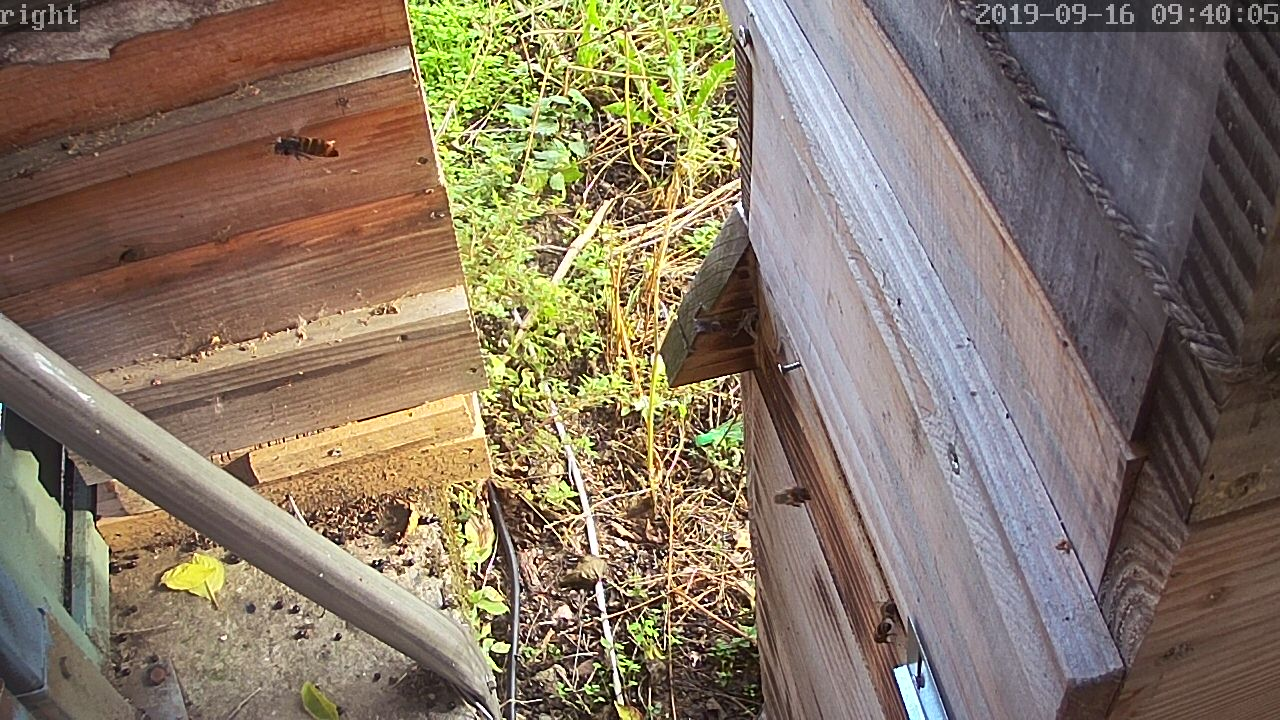bee: (765, 477, 811, 510), (870, 613, 901, 651)
hornet: (264, 125, 350, 166)
